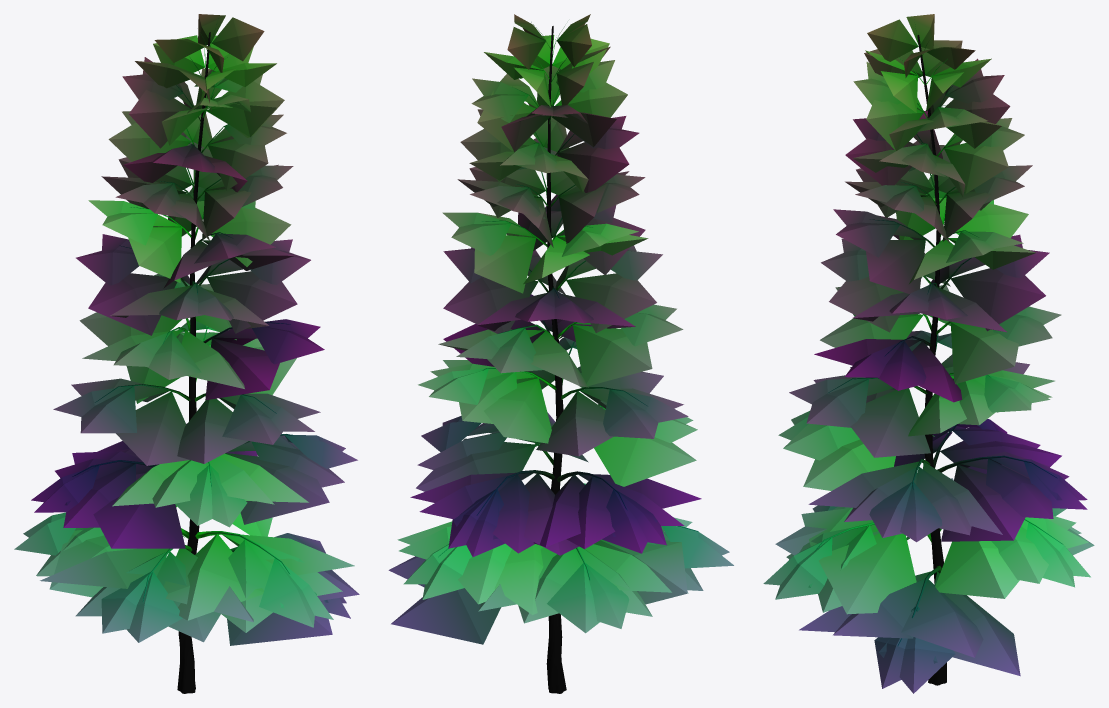
File: Fir.fbx
3 views of the same model, side by side, from view 1: azimuth 30°, elevation 25°; view 2: azimuth 150°, elevation 25°; view 3: azimuth 270°, elevation 25° (orthographic).
Parts seen in each view (by area): view 1: Tree_1, Tree_2, Tree_0; view 2: Tree_1, Tree_2, Tree_0; view 3: Tree_2, Tree_1, Tree_0.
Part boxes in pixels (left/top/right/bottom): Tree_1: left=23, top=17, right=359, bottom=645; Tree_2: left=14, top=14, right=354, bottom=642; Tree_0: left=72, top=24, right=293, bottom=693; Tree_1: left=397, top=14, right=733, bottom=633; Tree_2: left=388, top=14, right=729, bottom=644; Tree_0: left=438, top=22, right=698, bottom=693; Tree_2: left=775, top=19, right=1090, bottom=693; Tree_1: left=763, top=14, right=1094, bottom=688; Tree_0: left=814, top=24, right=1062, bottom=685.
Bounding box in the file's own units: 46.16 × 101 × 46.02.
